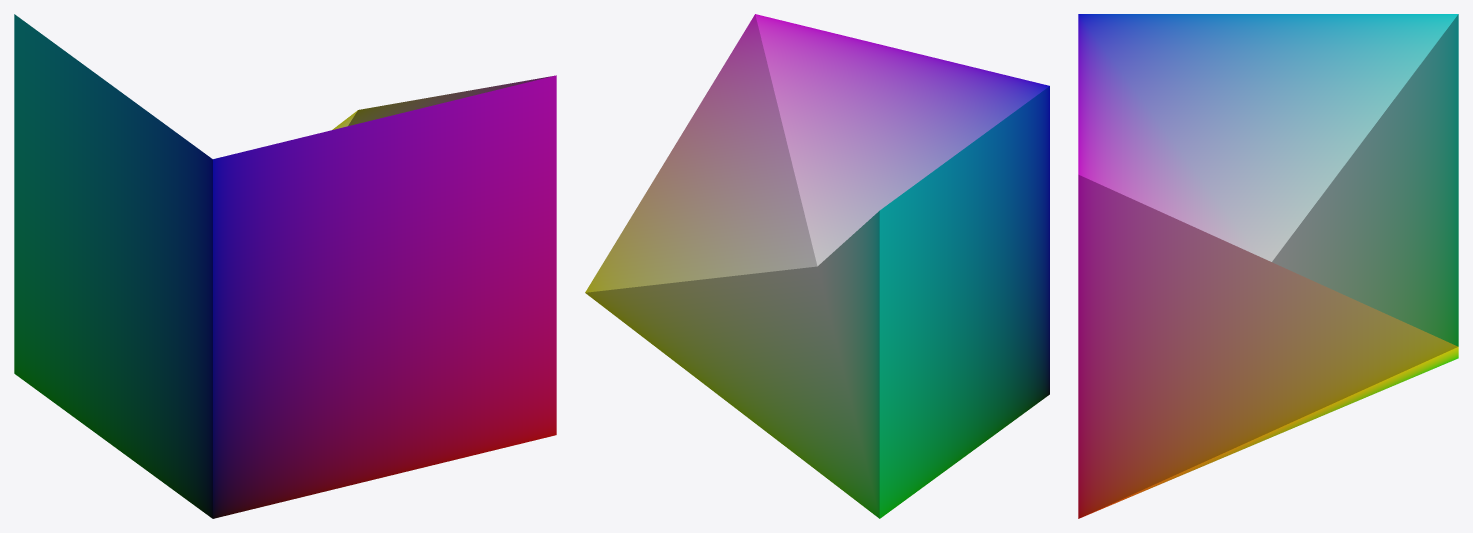
The model's file is fuzz_0322.fbx.
3 renders of one model, left to right at view 1: azimuth 30°, elevation 25°; view 2: azimuth 150°, elevation 25°; view 3: azimuth 270°, elevation 25°, orthographic. The views are drawn at different scales.
Parts seen in each view (by area): view 1: Cube; view 2: Cube; view 3: Cube.
Part boxes in pixels (box(x1,y1,x2,y2)): Cube: box(14, 14, 556, 518); Cube: box(585, 14, 1049, 518); Cube: box(1078, 14, 1458, 518).
Size of the model in its own units: 100 by 100 by 100.
